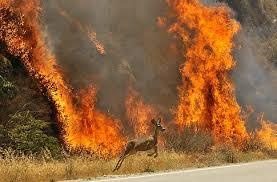fire: (0, 0, 133, 157), (162, 0, 273, 149), (87, 26, 109, 53)
